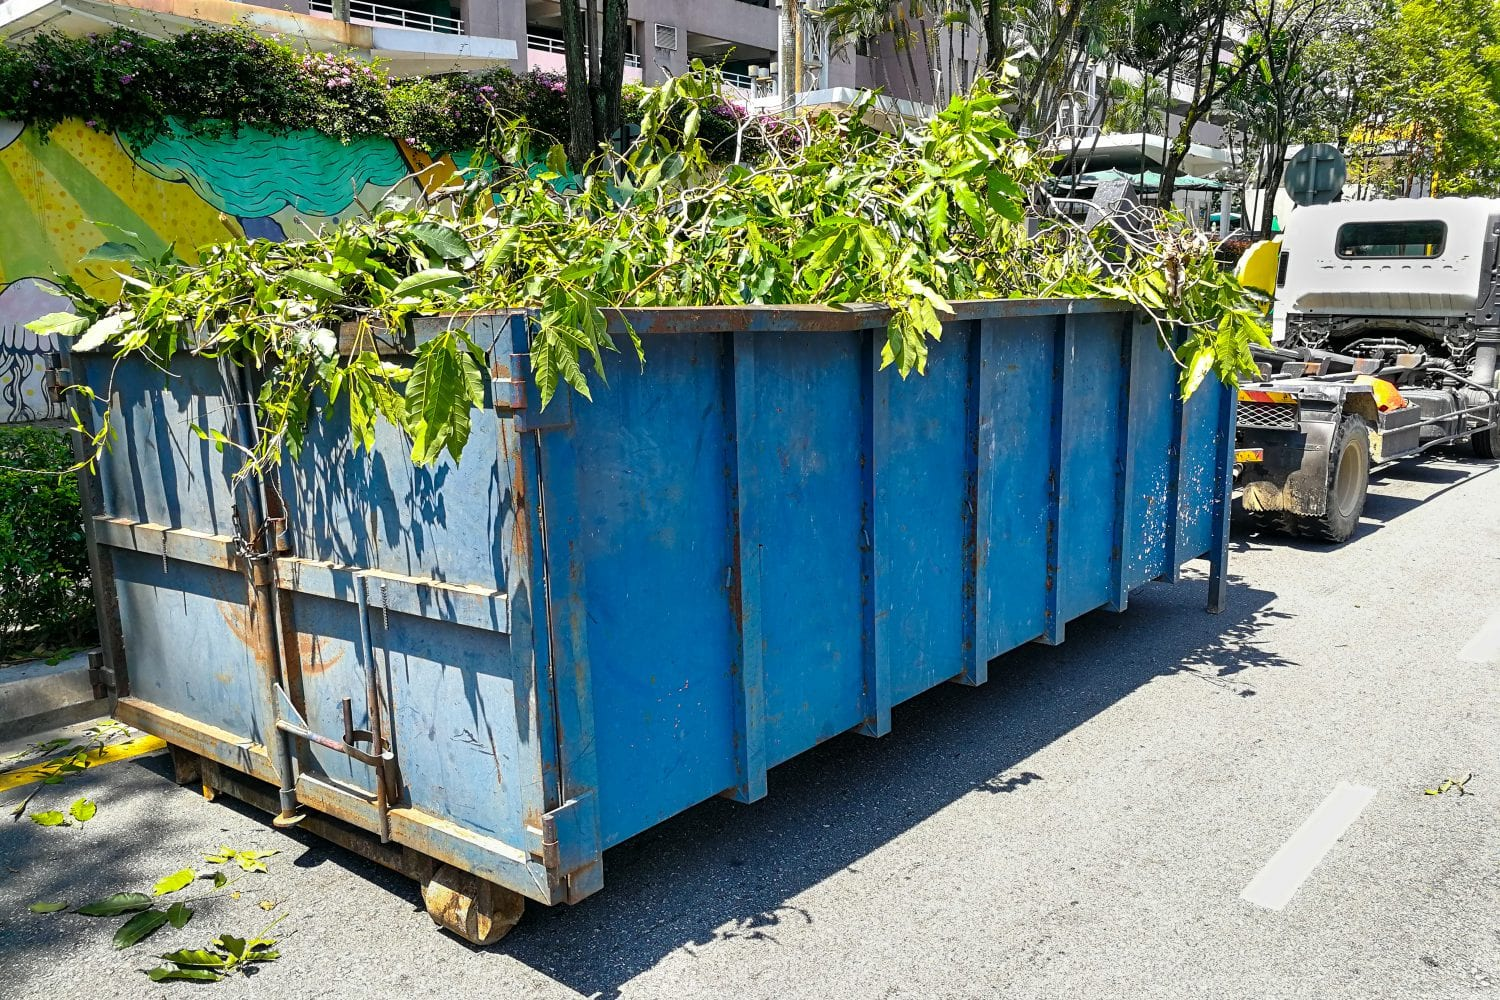Dumpster: (47, 260, 1263, 942)
